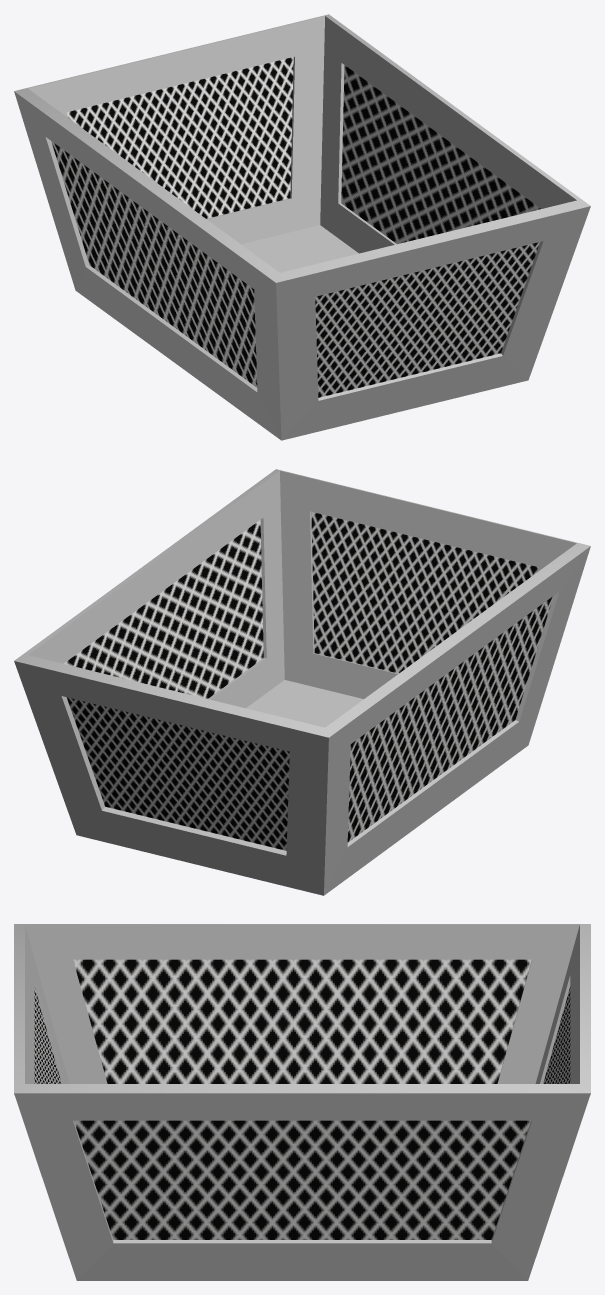
File: Basket_01.FBX
3 renders of one model, top to bottom at view 1: azimuth 30°, elevation 25°; view 2: azimuth 150°, elevation 25°; view 3: azimuth 270°, elevation 25°, orthographic. The views are drawn at different scales.
Parts seen in each view (by area): view 1: Basket_01; view 2: Basket_01; view 3: Basket_01.
Part boxes in pixels (x1=…): Basket_01: x1=14, y1=14, x2=590, y2=440; Basket_01: x1=14, y1=469, x2=590, y2=895; Basket_01: x1=14, y1=924, x2=590, y2=1280.
Size of the model in its own units: 16.68 by 9.67 by 24.04.
